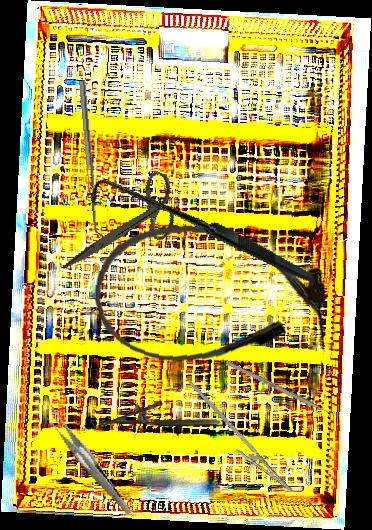Cannula: (89, 219, 333, 373)
Dressing Forceps: (40, 392, 132, 530)
Hook Surgical: (85, 116, 314, 352)
Iris Scissors: (61, 151, 191, 302)
Needle Holder: (168, 379, 306, 502), (99, 401, 221, 428)
Pusher: (225, 360, 343, 421)
Spatula Surgical: (79, 79, 105, 239)
